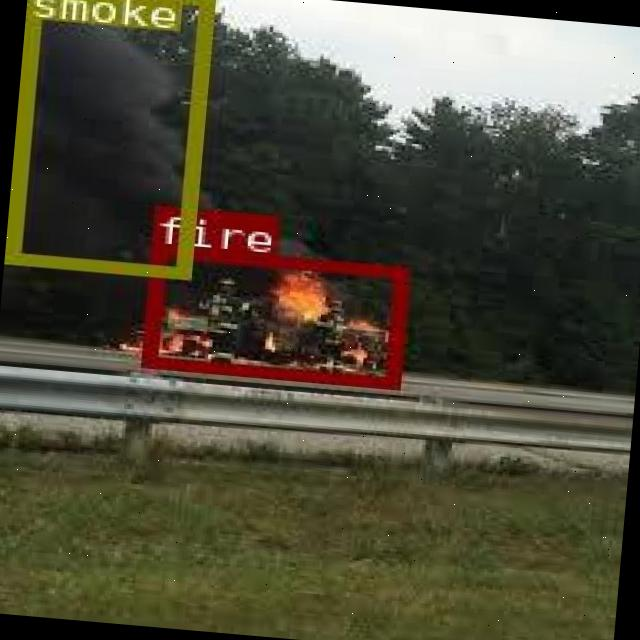fire: (138, 242, 404, 384)
smoke: (4, 0, 213, 276)
